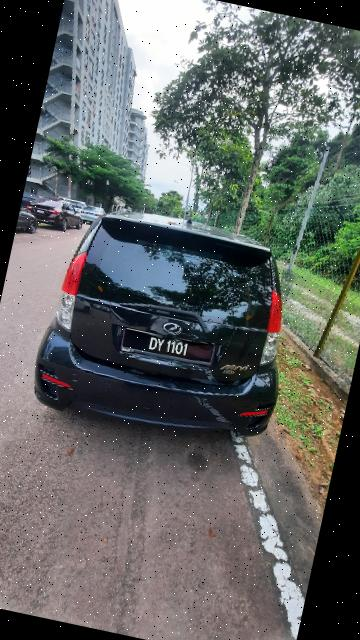License_Plate: (111, 320, 222, 374)
car: (28, 194, 311, 464)
